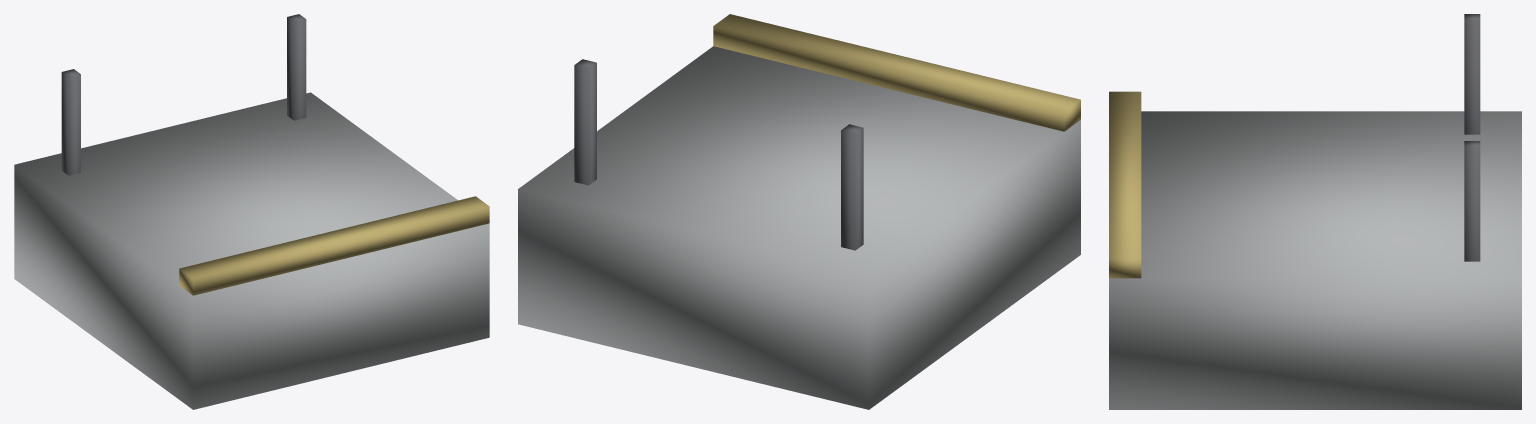
Rendered from loading_dock_03.glb.
3 renders of one model, left to right at view 1: azimuth 30°, elevation 25°; view 2: azimuth 150°, elevation 25°; view 3: azimuth 270°, elevation 25°, orthographic. The views are drawn at different scales.
Visible parts, largest first — view 1: world; view 2: world; view 3: world.
Part boxes in pixels (x1,y1,x2,y2): world: (14, 14, 489, 409); world: (518, 14, 1080, 409); world: (1109, 14, 1521, 409).
Size of the model in its own units: 2.2 by 1.51 by 2.3.
